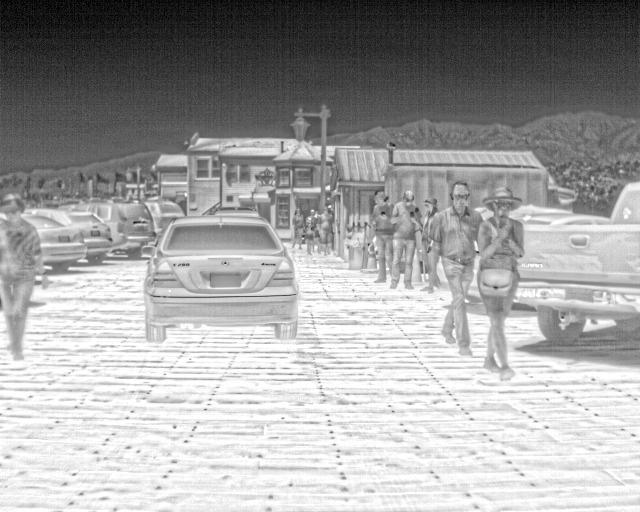bicycle: (510, 180, 639, 346), (141, 216, 301, 344), (62, 197, 158, 257), (29, 207, 113, 267), (24, 213, 88, 272), (146, 198, 186, 235), (521, 210, 609, 226), (210, 205, 260, 218)
empty: (425, 180, 485, 356), (477, 186, 525, 381), (1, 192, 44, 360), (387, 190, 420, 288), (414, 193, 442, 291), (369, 190, 393, 282), (316, 204, 335, 256), (303, 207, 319, 255)
